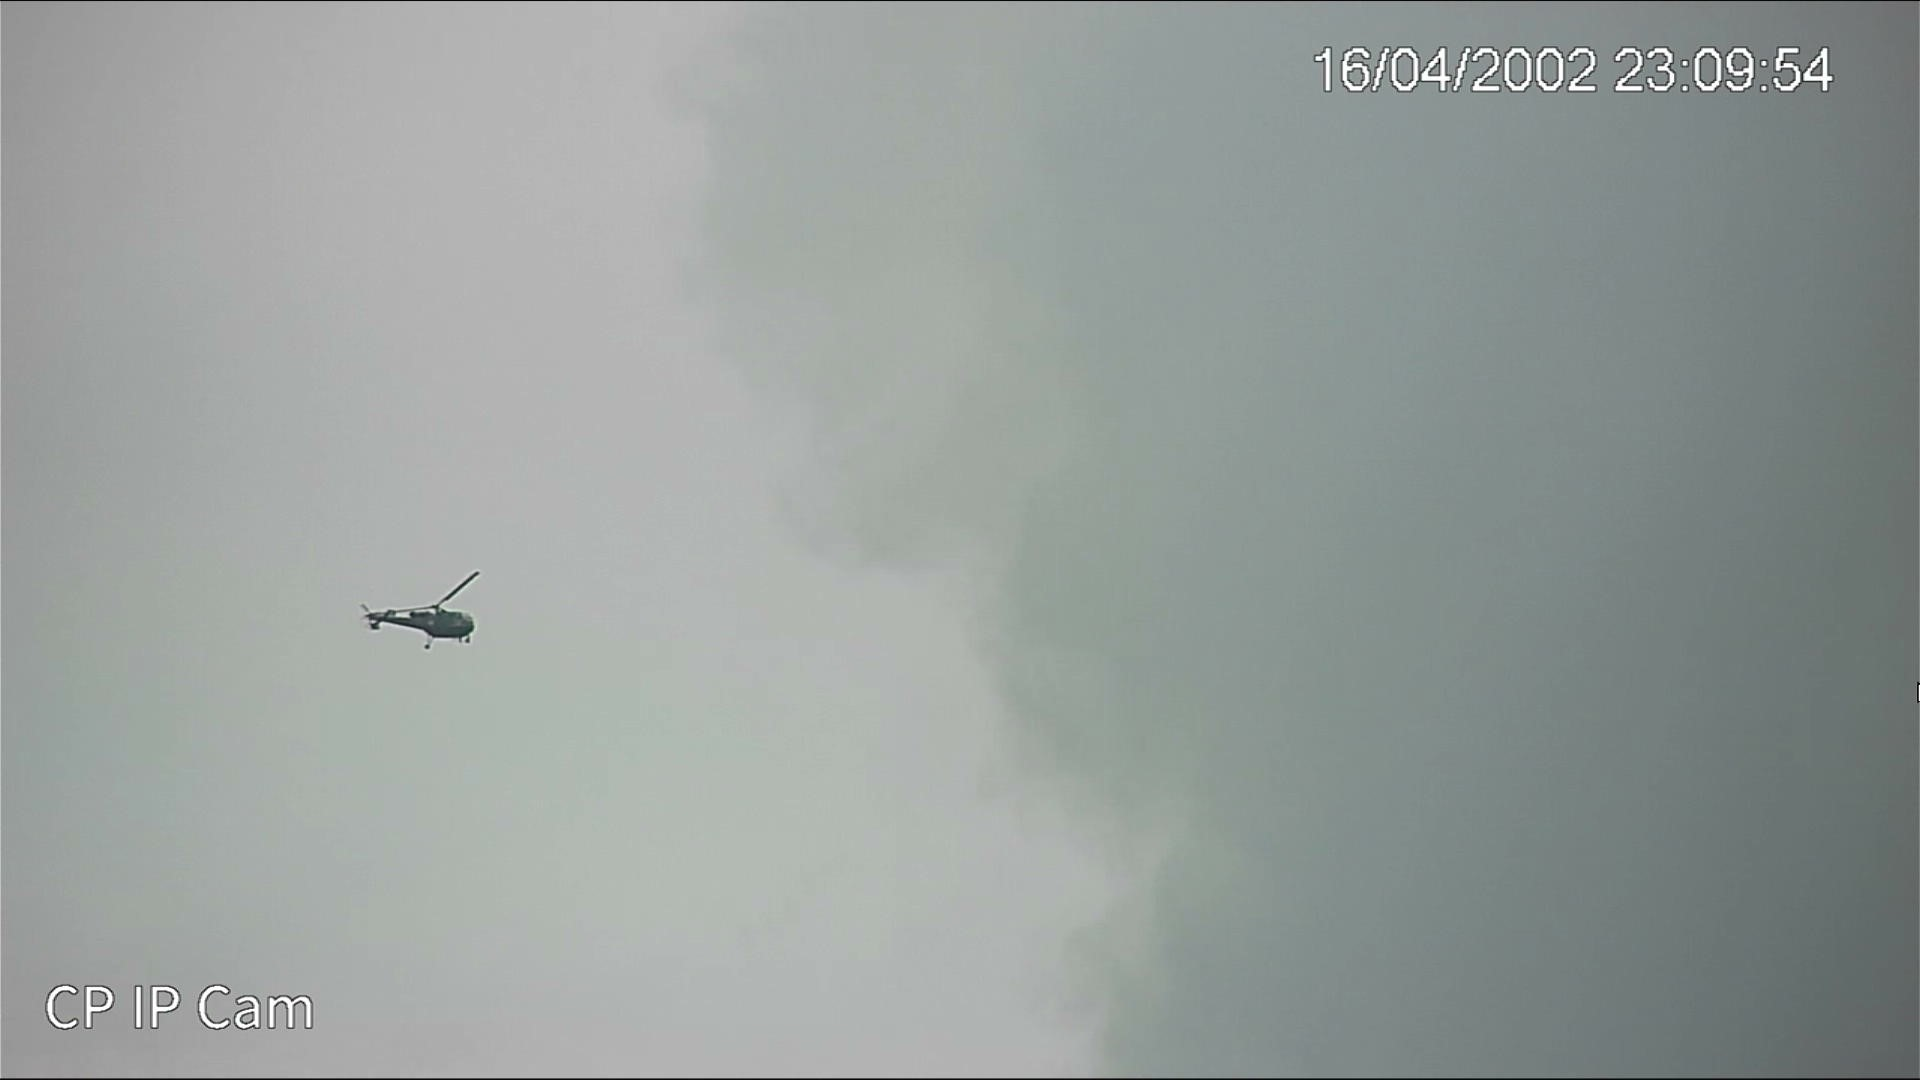SU_30: (357, 589, 477, 647)
